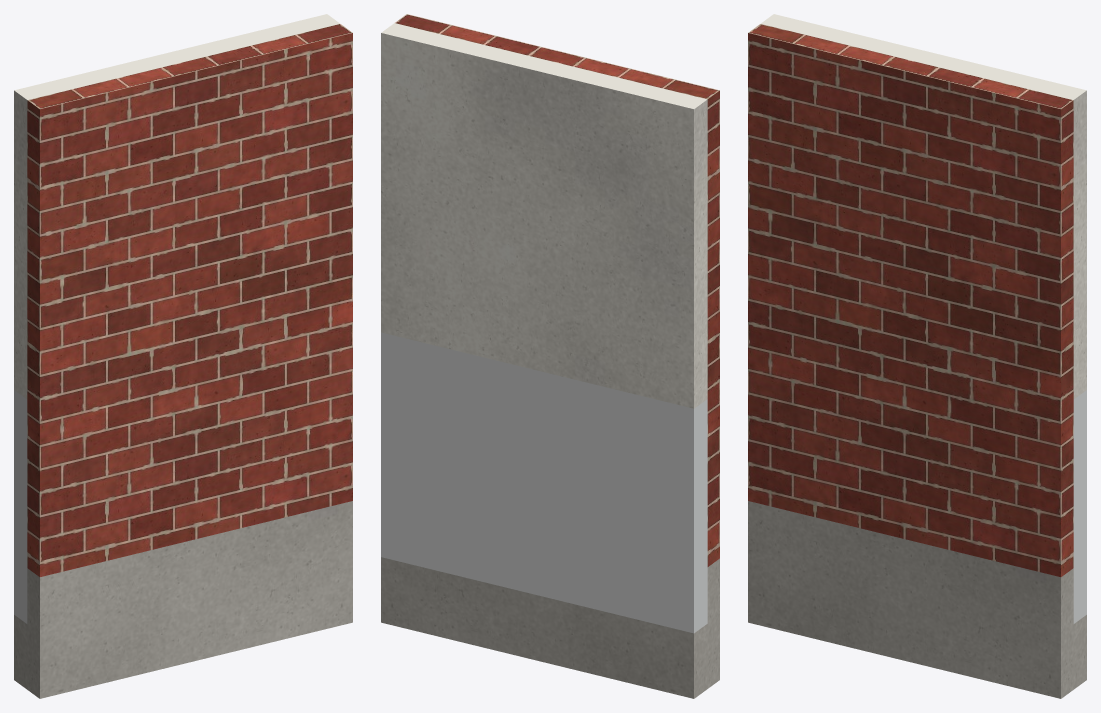
The model's file is q_plain_r.glb.
3 renders of one model, left to right at view 1: azimuth 30°, elevation 25°; view 2: azimuth 150°, elevation 25°; view 3: azimuth 330°, elevation 25°, orthographic.
Visible parts, largest first — view 1: q_plain_r_brick, q_plain_r_concrete, q_plain_r_plaster, q_plain_r_tile; view 2: q_plain_r_plaster, q_plain_r_tile, q_plain_r_concrete, q_plain_r_brick; view 3: q_plain_r_brick, q_plain_r_concrete, q_plain_r_plaster, q_plain_r_tile.
Part boxes in pixels (box(x1,y1,x2,y2)): q_plain_r_brick: box(27, 24, 352, 576); q_plain_r_concrete: box(14, 501, 352, 698); q_plain_r_plaster: box(14, 14, 340, 399); q_plain_r_tile: box(14, 390, 27, 623); q_plain_r_plaster: box(381, 23, 707, 408); q_plain_r_tile: box(381, 332, 707, 633); q_plain_r_concrete: box(381, 557, 719, 698); q_plain_r_brick: box(395, 14, 719, 566); q_plain_r_brick: box(748, 24, 1073, 576); q_plain_r_concrete: box(748, 501, 1086, 698); q_plain_r_plaster: box(760, 14, 1086, 399); q_plain_r_tile: box(1073, 390, 1086, 623).
Size of the model in its own units: 1.75 by 3.15 by 0.25.
4 materials, 3 textured.
